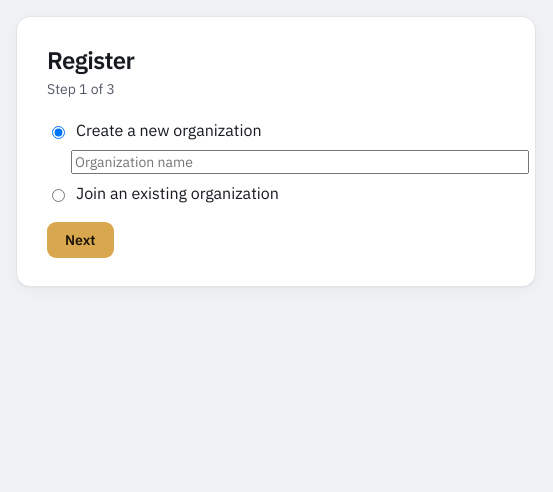
Register › requires a display name and username before submitting
In the field labelled "Organization name": (300, 162) [71,150,529,174], type "Acme"
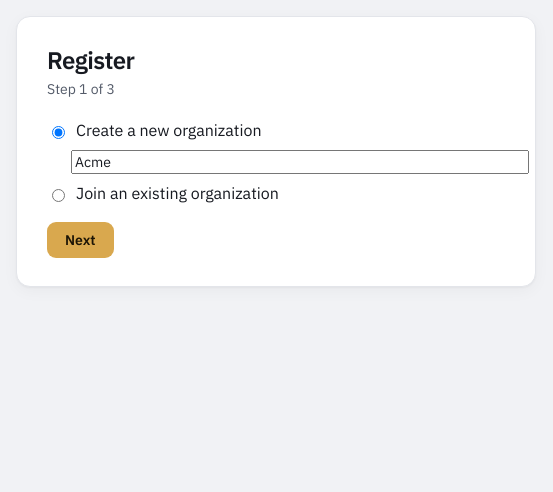
Click the button "Next": (80, 240) [47,222,114,258]
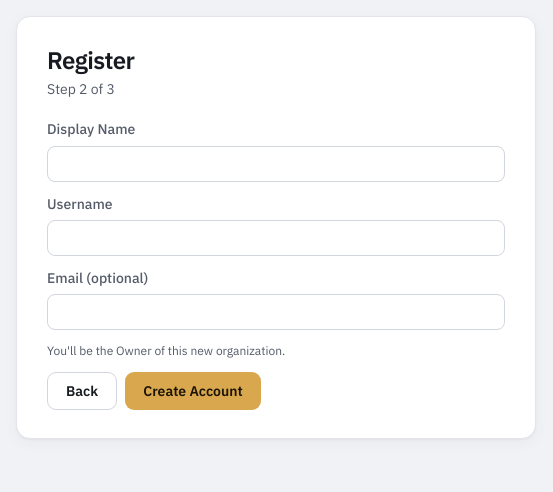
Expected: the field labelled "Display Name" is shown, [47,146,505,182]
Click the button "Create Account": (193, 391) [125,372,261,410]
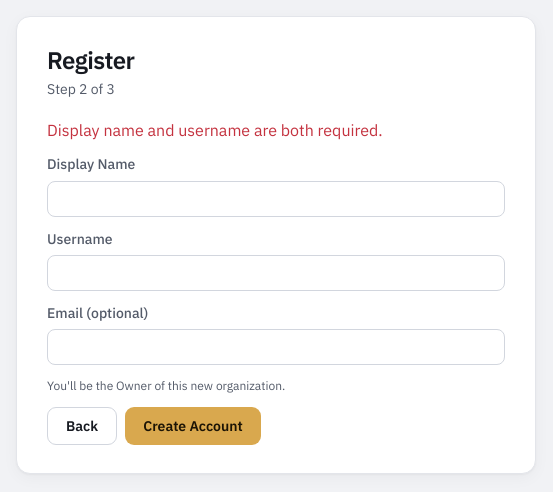
Expected: the message shows "required", [47,120,383,140]
